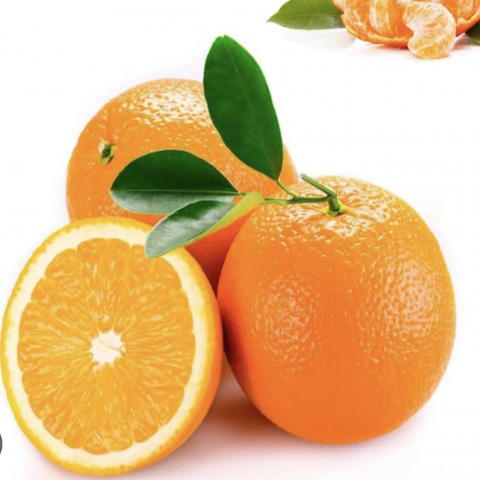orange: (200, 147, 466, 458), (58, 73, 324, 324)
